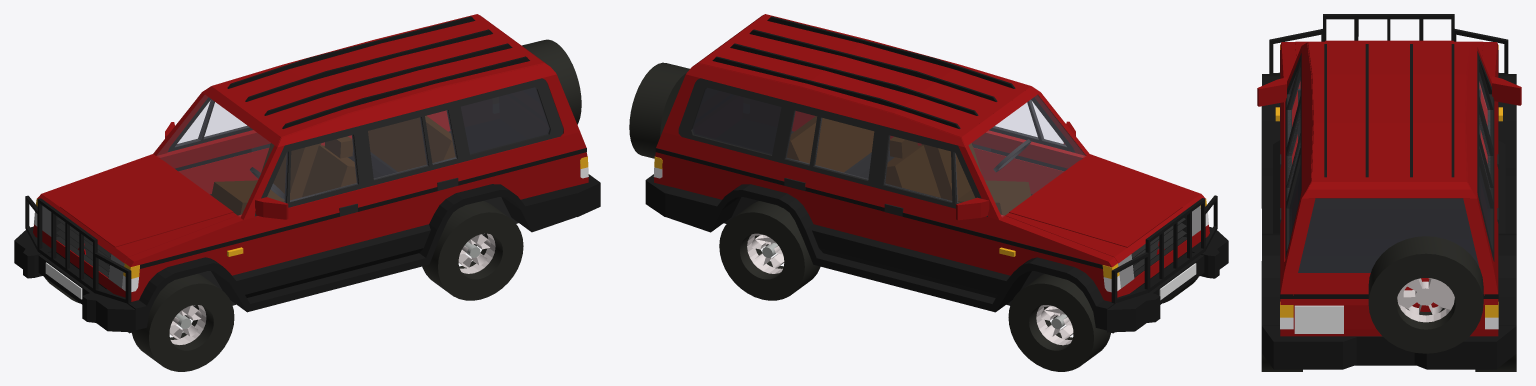
Rendered from jeep6.fbx.
The picture shows the model from 3 angles, left to right: view 1: azimuth 30°, elevation 25°; view 2: azimuth 150°, elevation 25°; view 3: azimuth 270°, elevation 25°; orthographic projection. The views are drawn at different scales.
Visible parts, largest first — view 1: Polygon_5, Polygon_16, Polygon_57, Polygon_74, Polygon_49, Polygon_4, Polygon_8, Polygon_56, Polygon_50, Polygon_72, Polygon_54, Polygon_65 (+30 smaller); view 2: Polygon_5, Polygon_58, Polygon_74, Polygon_10, Polygon_4, Polygon_48, Polygon_8, Polygon_45, Polygon_16, Polygon_51, Polygon_71, Polygon_60 (+28 smaller); view 3: Polygon_5, Polygon_10, Polygon_7, Polygon_76, Polygon_74, Polygon_45, Polygon_75, Polygon_56, Polygon_49, Polygon_48, Polygon_11, Polygon_51 (+17 smaller).
Part boxes in pixels (x1,y1,x2,y2): Polygon_5: (42,14,555,295); Polygon_16: (44,201,523,371); Polygon_57: (120,152,588,301); Polygon_74: (30,131,577,330); Polygon_49: (125,132,586,267); Polygon_4: (211,115,455,215); Polygon_8: (157,95,273,215); Polygon_56: (255,78,563,216); Polygon_50: (277,63,556,147); Polygon_72: (461,87,549,154); Polygon_54: (290,136,356,201); Polygon_65: (236,230,430,294); Polygon_5: (686,14,1200,295); Polygon_58: (654,152,1121,301); Polygon_74: (665,131,1212,330); Polygon_10: (629,62,820,300); Polygon_4: (786,116,1031,215); Polygon_48: (656,132,1117,267); Polygon_8: (969,95,1085,215); Polygon_45: (678,78,987,216); Polygon_16: (1008,273,1198,371); Polygon_51: (686,63,965,147); Polygon_71: (692,87,781,154); Polygon_60: (812,230,1005,294); Polygon_5: (1293,40,1484,336); Polygon_10: (1368,236,1516,371); Polygon_7: (1298,198,1478,272); Polygon_76: (1262,325,1516,369); Polygon_74: (1262,74,1516,325); Polygon_45: (1477,51,1494,261); Polygon_75: (1269,14,1508,73); Polygon_56: (1285,53,1301,258); Polygon_49: (1280,42,1297,294); Polygon_48: (1480,42,1498,294); Polygon_11: (1397,278,1454,322); Polygon_51: (1465,42,1477,198).
Size of the model in its own units: 502 by 190 by 191.
